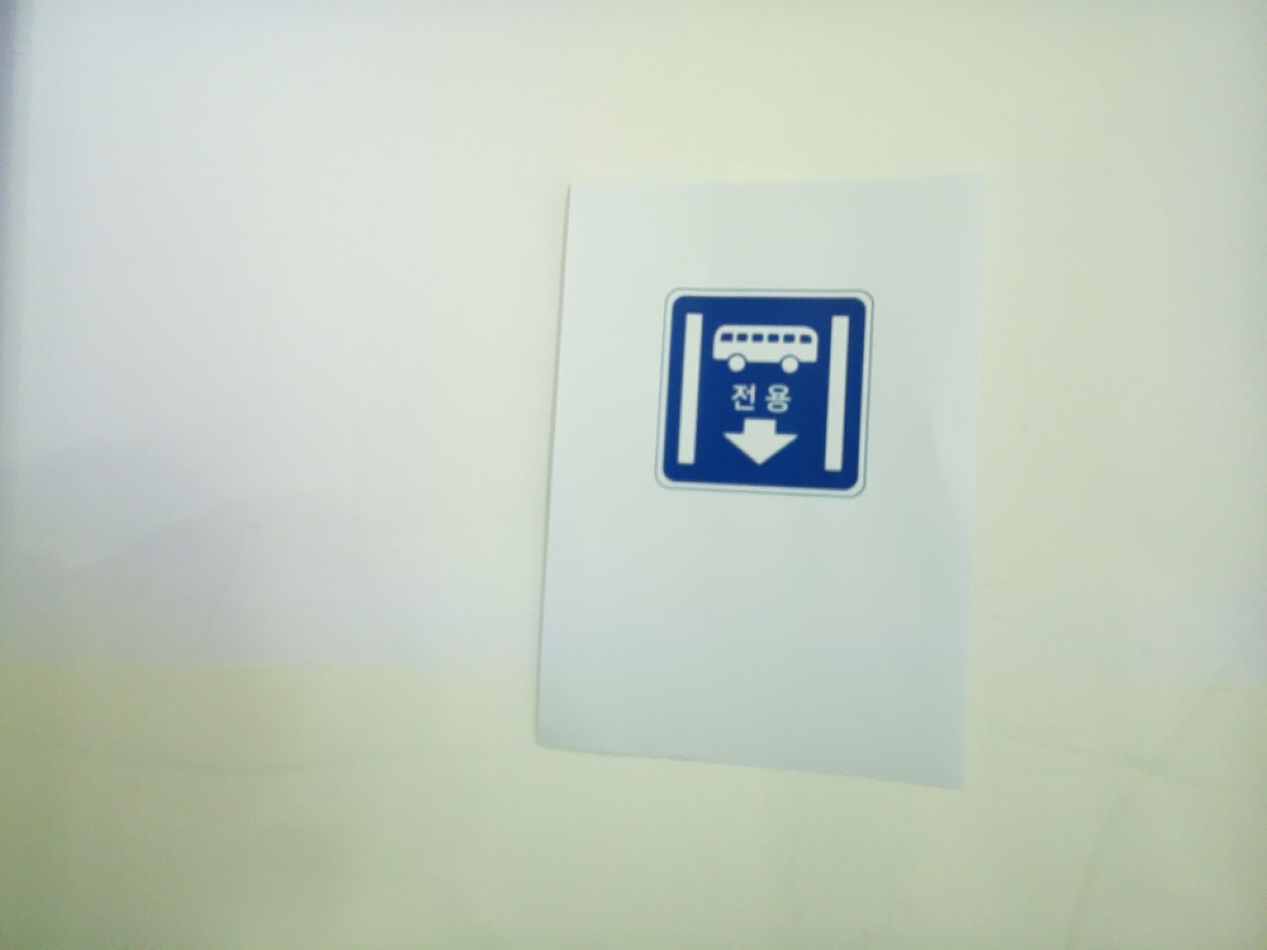bus_only_lane: (654, 288, 874, 499)
